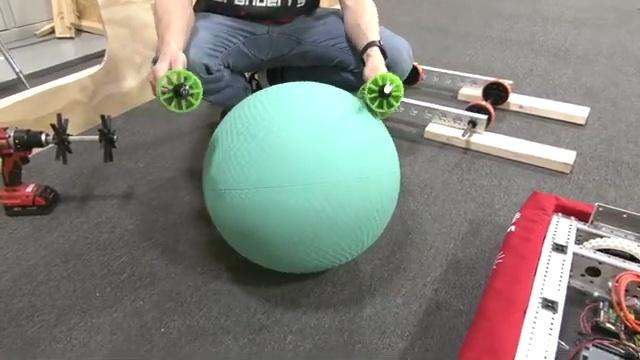algae: (200, 79, 402, 275)
